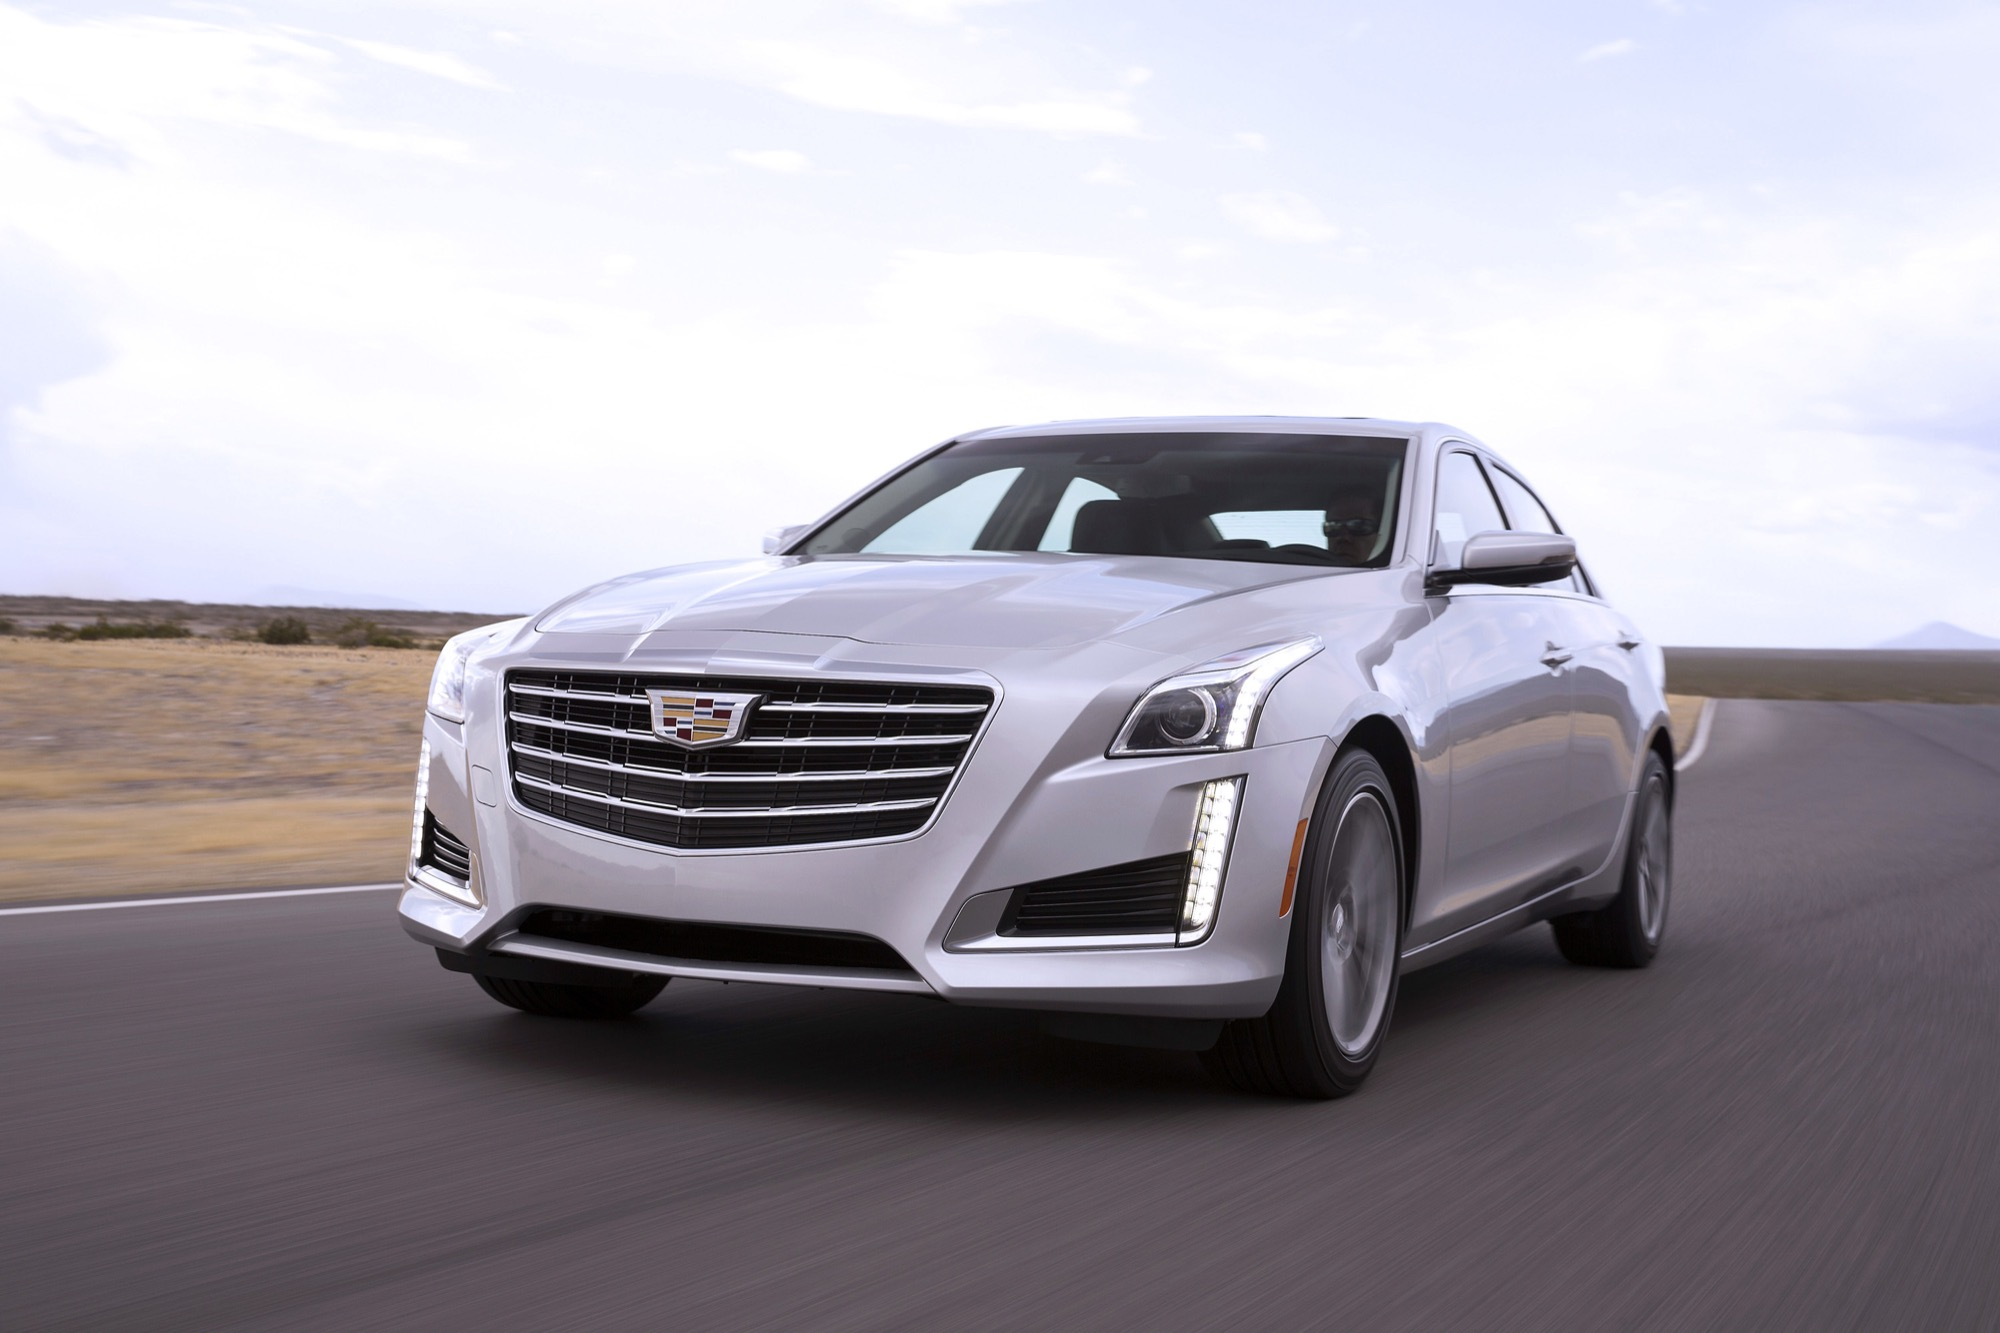car: (397, 415, 1677, 1099)
